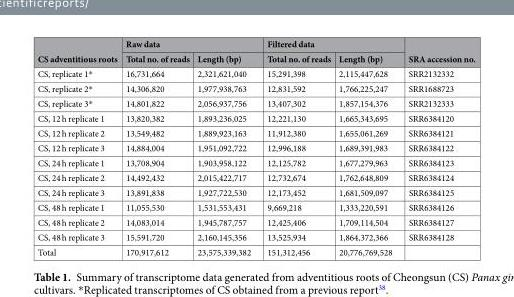table: (36, 37, 474, 257)
table column: (36, 37, 120, 257), (258, 37, 334, 257), (399, 37, 474, 257), (120, 37, 192, 257), (192, 37, 258, 257), (334, 37, 399, 257)
table column header: (36, 37, 474, 65)
table row: (36, 50, 474, 65), (36, 65, 474, 80), (36, 80, 474, 95), (36, 95, 474, 110), (36, 110, 474, 125), (36, 125, 474, 140), (36, 154, 474, 169), (36, 169, 474, 184), (36, 184, 474, 199), (36, 199, 474, 214), (36, 214, 474, 229), (36, 229, 474, 244), (36, 140, 474, 154), (36, 37, 474, 50), (36, 244, 474, 257)
table spanning cell: (36, 37, 120, 65), (399, 37, 474, 65), (258, 37, 399, 50), (120, 37, 258, 50)
